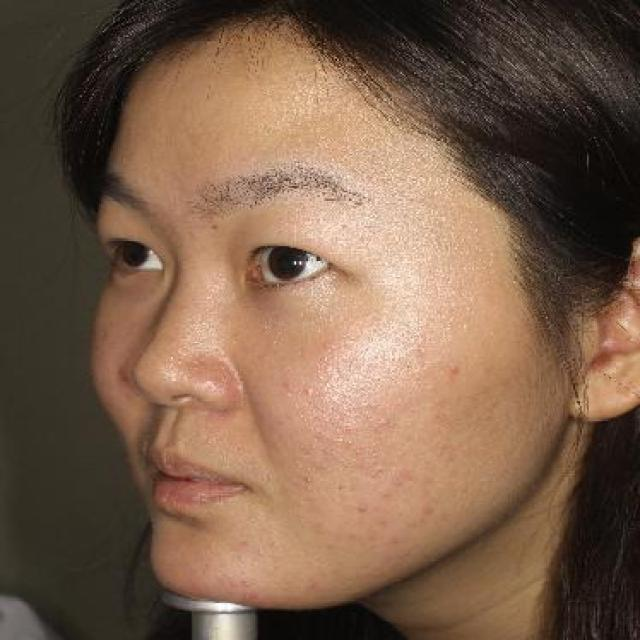whiteheads: (296, 468, 320, 486), (378, 485, 395, 500), (296, 385, 315, 397), (220, 580, 240, 591), (238, 574, 251, 589), (409, 343, 423, 355), (372, 464, 388, 474), (315, 351, 328, 363), (349, 446, 363, 457), (241, 592, 255, 603), (340, 437, 356, 446), (323, 540, 339, 549), (305, 582, 318, 592), (390, 472, 404, 480)
